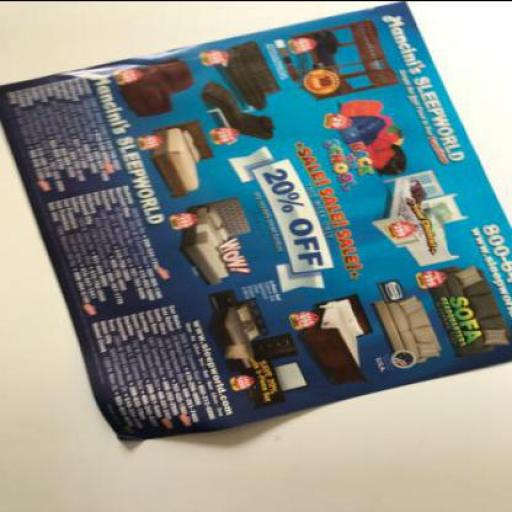paper: (1, 2, 511, 440)
